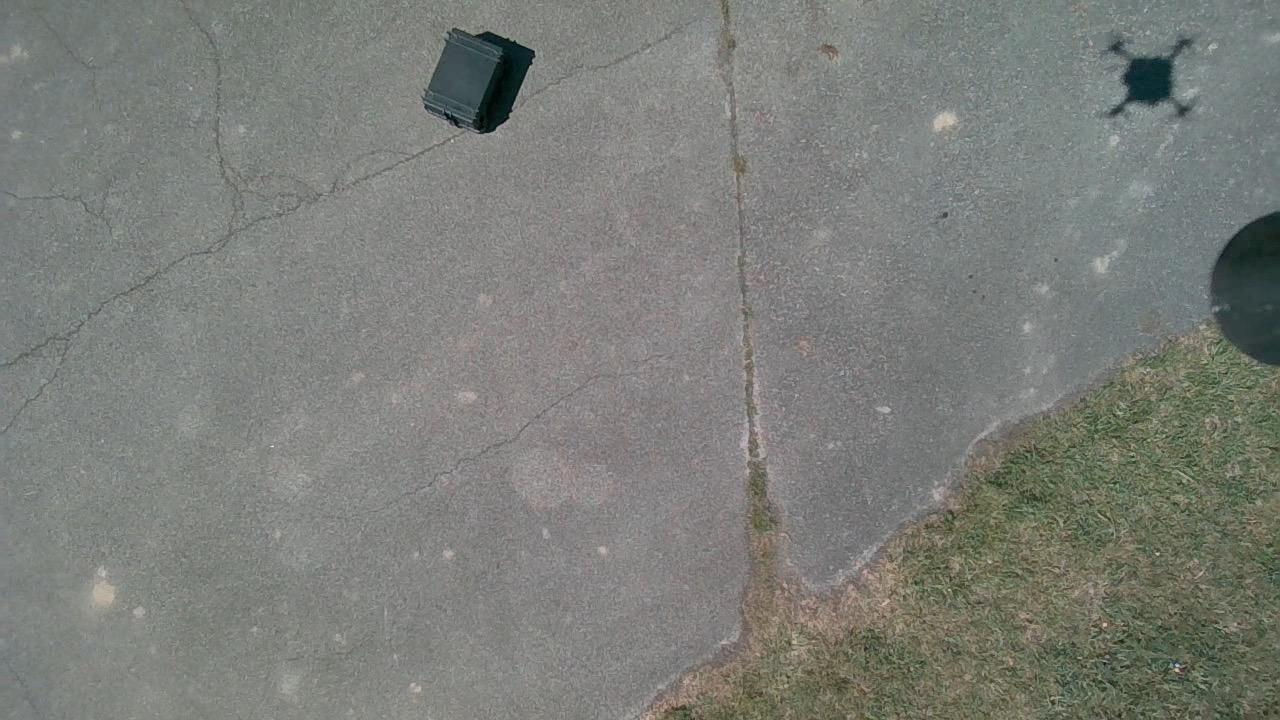rako: (420, 26, 508, 135)
